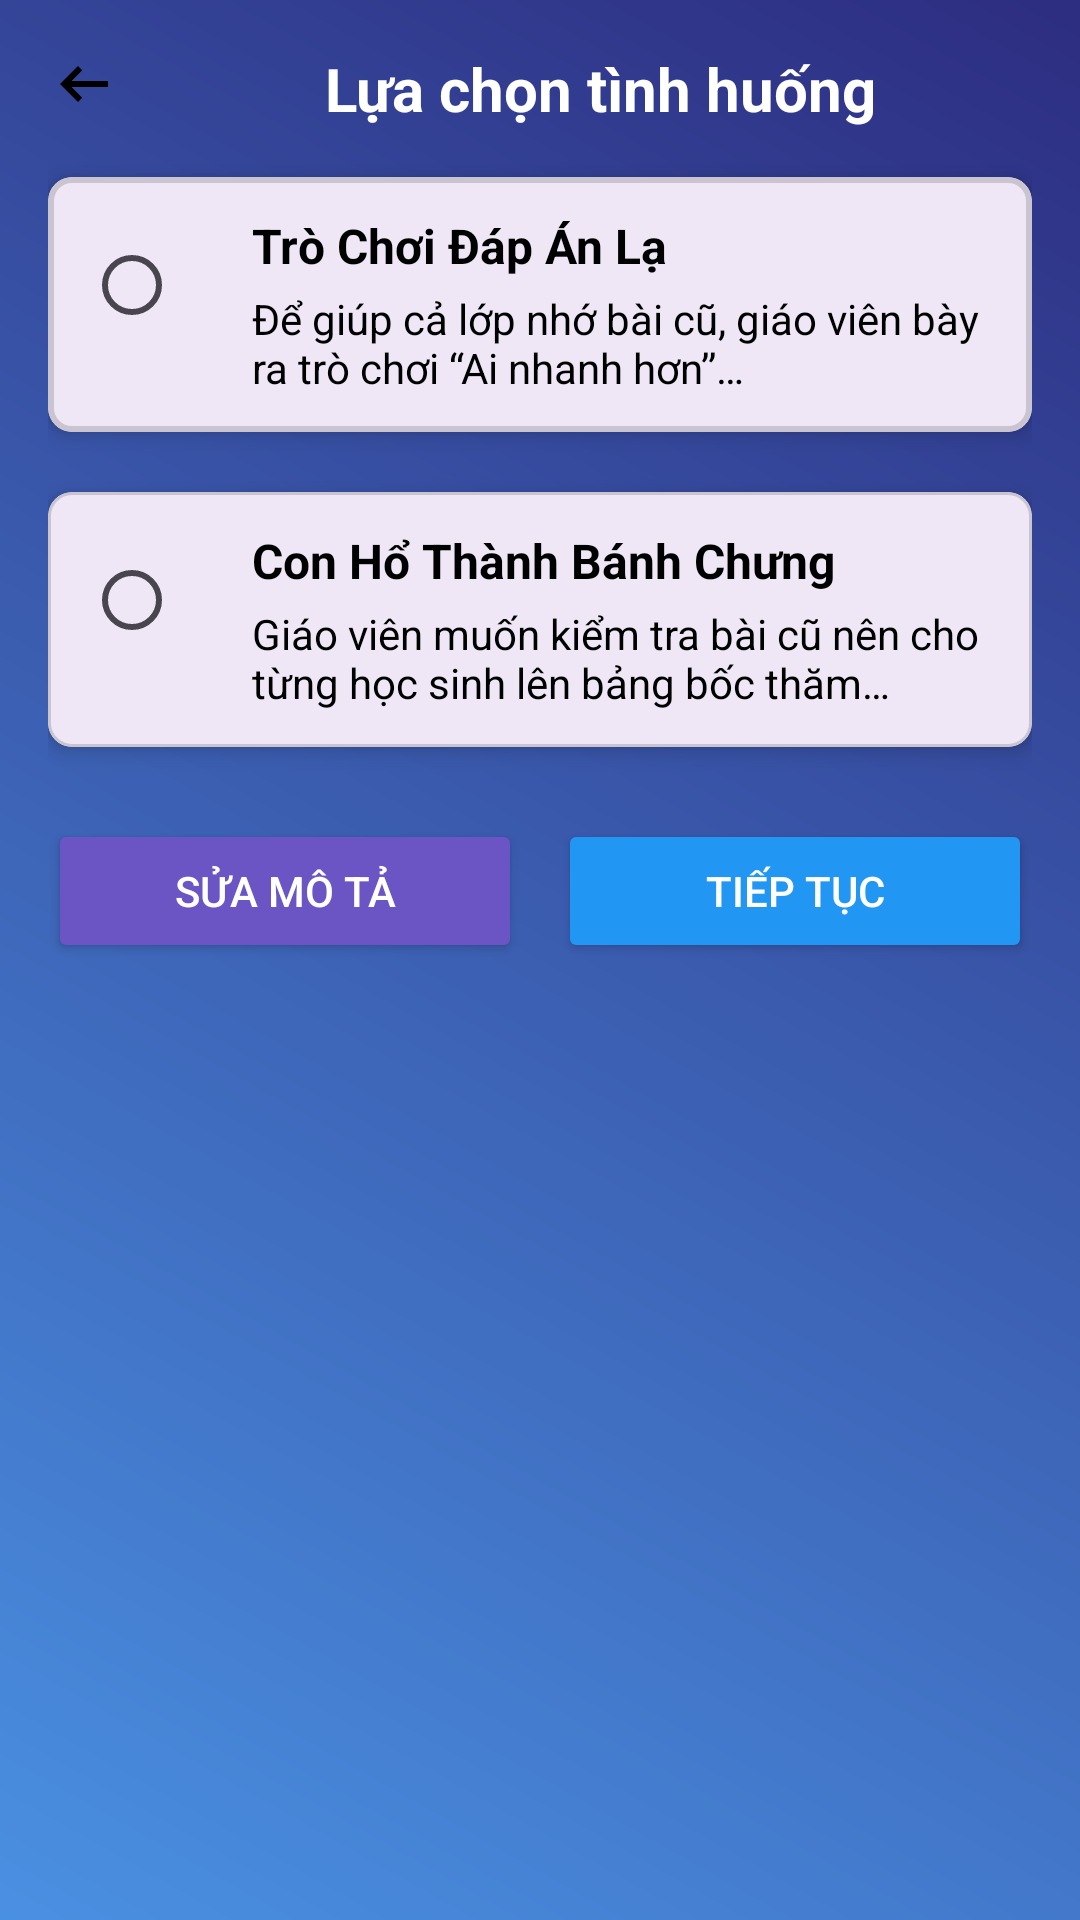

Screen size 1080px x 1920px. Icon name, then its box in pixels as [x1,y1,x2,y2]:
arrow left: [60,66,108,102]
